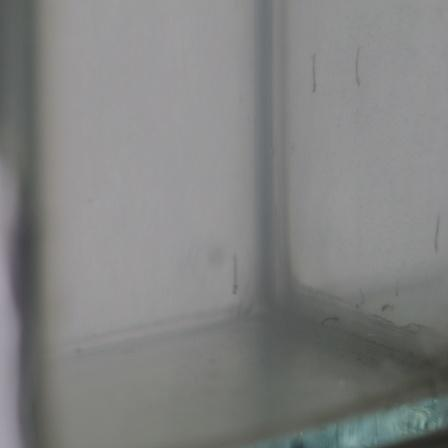Jentik-Nyamuk: (306, 52, 325, 95), (228, 248, 243, 294)
